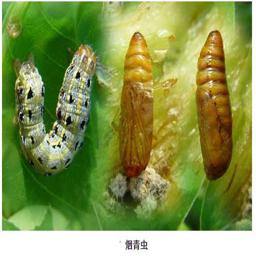Tobacco_budworm: (14, 43, 96, 177), (194, 29, 232, 181), (117, 32, 152, 177)
